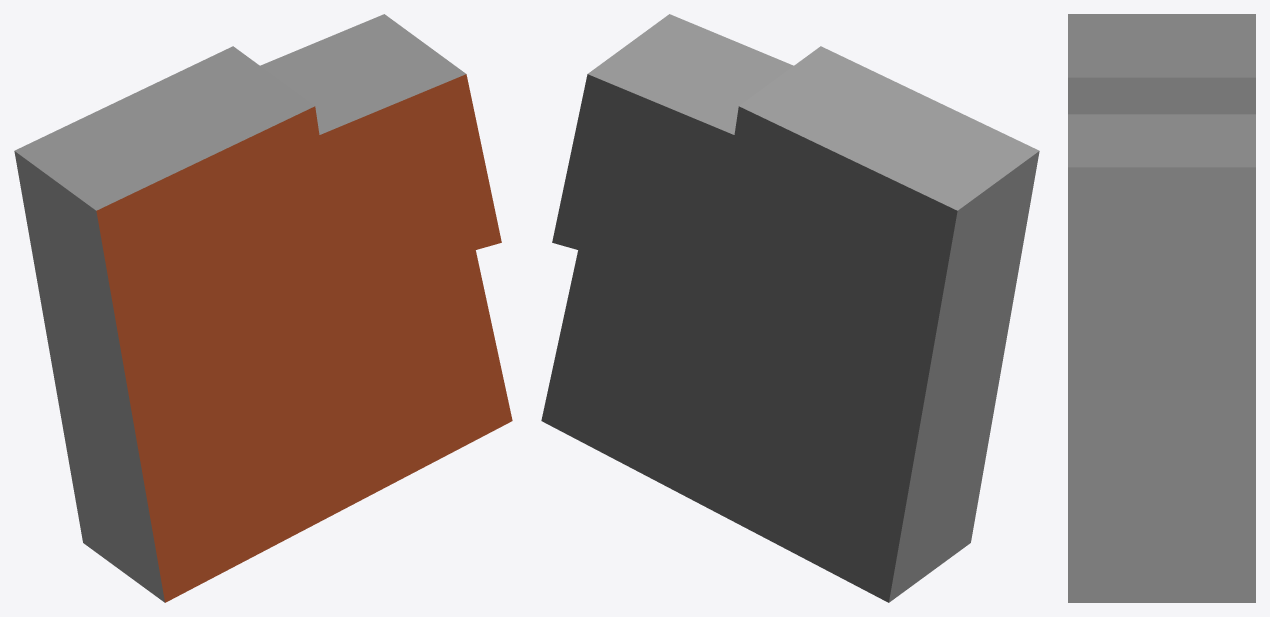
File: construction_2799_assumed_A_Casa_h6m.obj
The picture shows the model from 3 angles, left to right: view 1: azimuth 30°, elevation 25°; view 2: azimuth 150°, elevation 25°; view 3: azimuth 270°, elevation 25°; orthographic projection. The views are drawn at different scales.
Parts seen in each view (by area): view 1: construction_2799_assumed_A_Casa; view 2: construction_2799_assumed_A_Casa; view 3: construction_2799_assumed_A_Casa.
Part boxes in pixels (x1,y1,x2,y2): construction_2799_assumed_A_Casa: (14, 14, 512, 602); construction_2799_assumed_A_Casa: (541, 14, 1039, 602); construction_2799_assumed_A_Casa: (1068, 14, 1255, 602).
Size of the model in its own units: 17.57 by 18.56 by 6.
